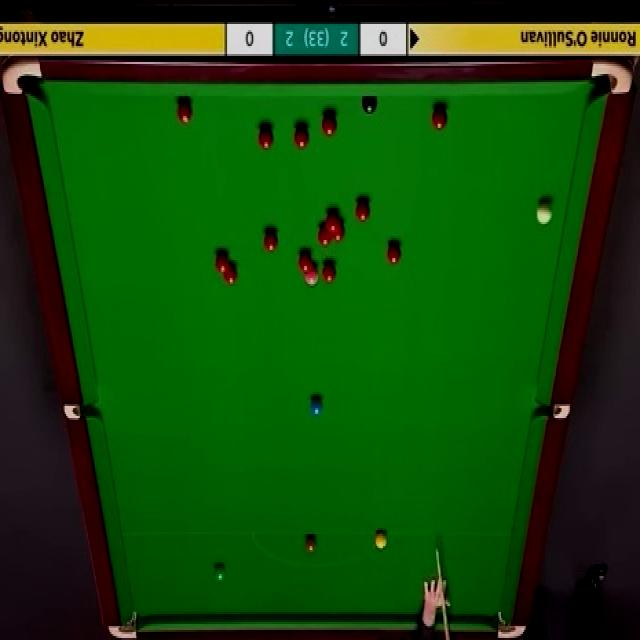black-ball: (361, 95, 378, 114)
blue-ball: (310, 395, 324, 420)
brown-ball: (305, 534, 317, 552)
green-ball: (213, 562, 228, 582)
pink-ball: (304, 264, 317, 286)
red-ball: (176, 98, 193, 127), (220, 262, 237, 291), (431, 106, 448, 131), (258, 125, 274, 151), (214, 249, 231, 273), (385, 239, 401, 263), (294, 124, 309, 149), (264, 228, 279, 253), (322, 112, 336, 137), (318, 222, 332, 246), (356, 199, 370, 222), (298, 252, 312, 274), (322, 262, 336, 281), (326, 210, 339, 230), (332, 222, 345, 242)
white-ball: (536, 199, 554, 227)
yellow-ball: (375, 531, 388, 551)
